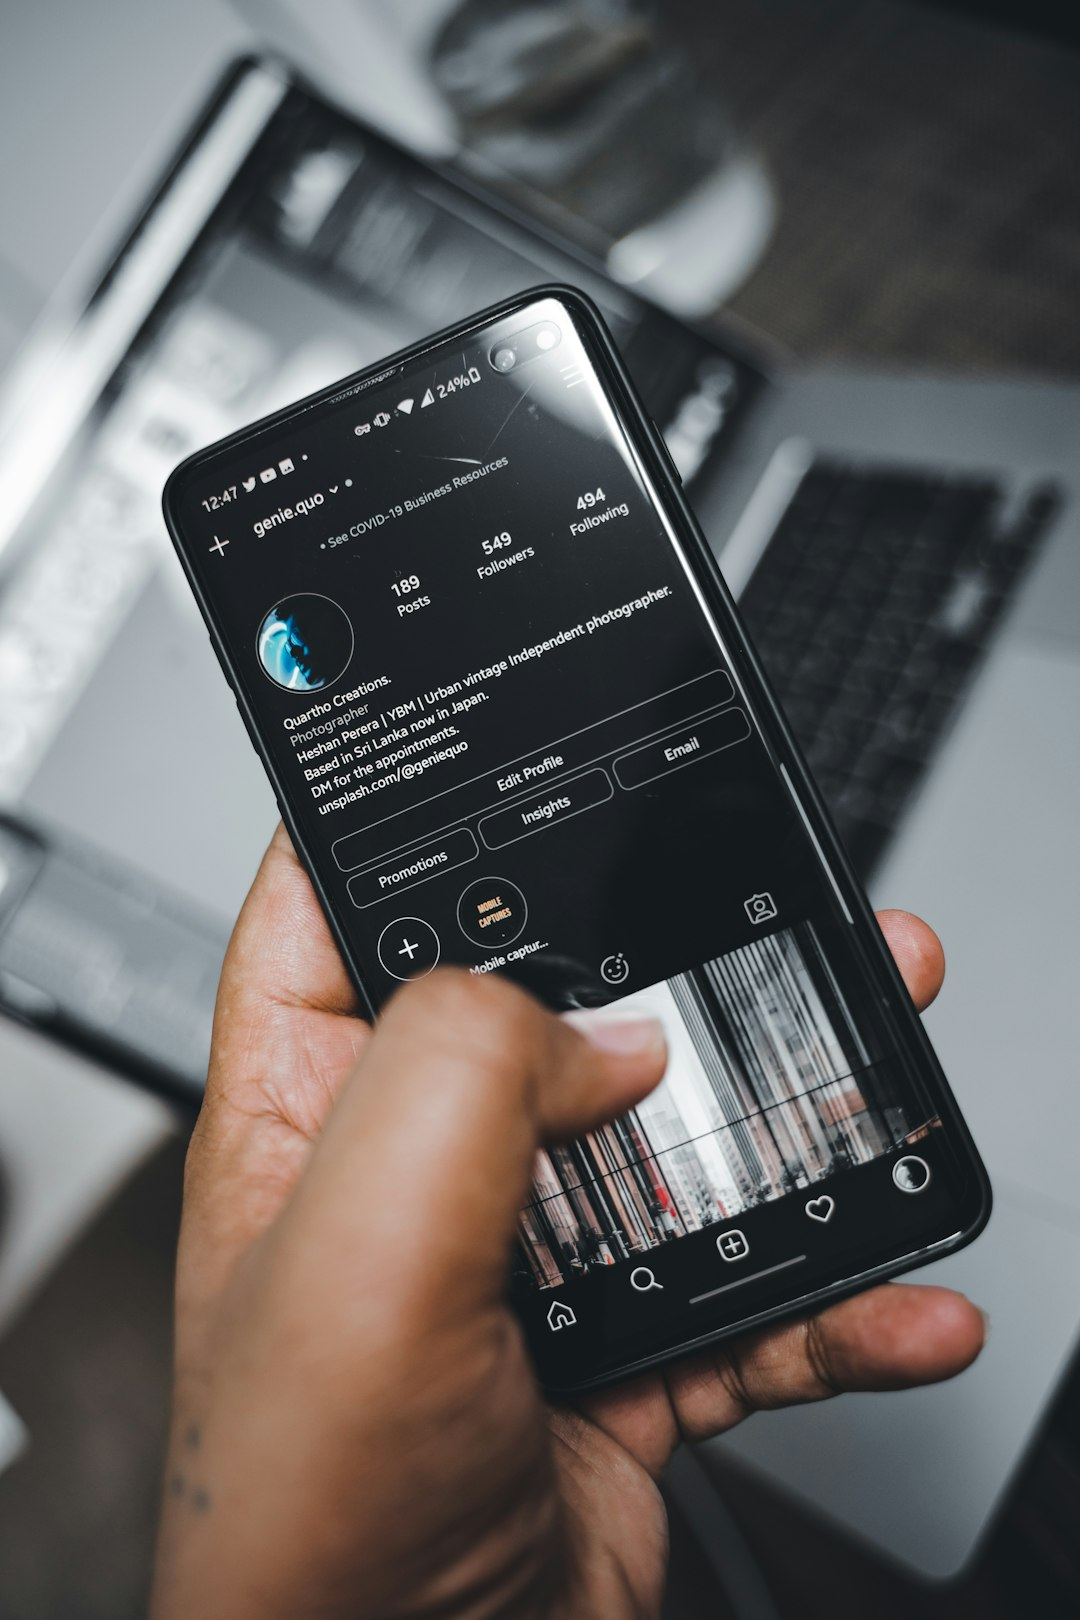phone: (155, 280, 994, 1411)
